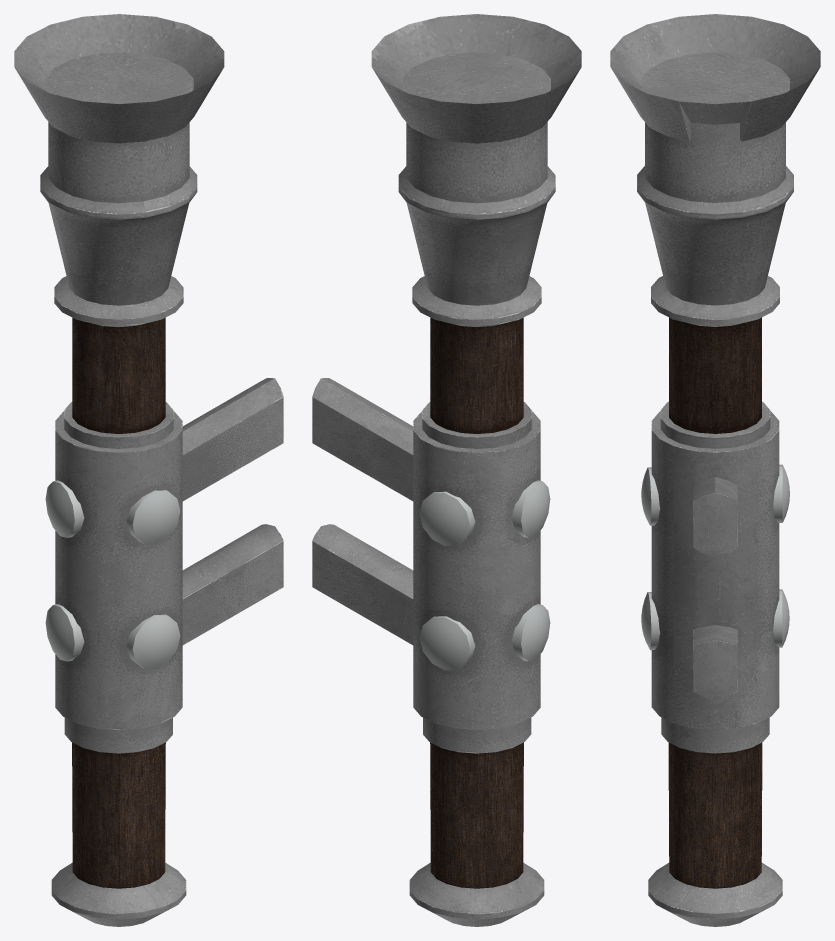
The model's file is WallTorchEmbeddedReupload.fbx.
The picture shows the model from 3 angles, left to right: view 1: azimuth 30°, elevation 25°; view 2: azimuth 150°, elevation 25°; view 3: azimuth 270°, elevation 25°; orthographic projection.
Visible parts, largest first — view 1: Torch; view 2: Torch; view 3: Torch.
Boxes of the visible parts, x1=… form: Torch: x1=14, y1=14, x2=283, y2=926; Torch: x1=312, y1=14, x2=581, y2=926; Torch: x1=610, y1=14, x2=820, y2=926.
Bounding box in the file's own units: 8.02 × 26.21 × 5.86.
